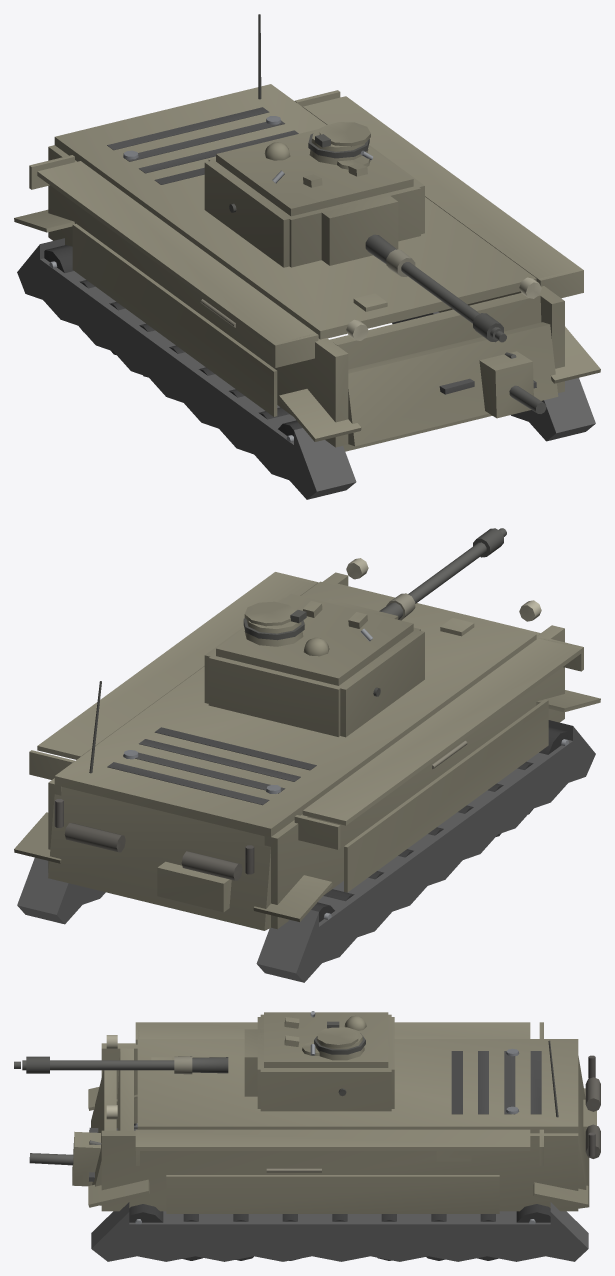
File: churchill1.glb
3 renders of one model, top to bottom at view 1: azimuth 30°, elevation 25°; view 2: azimuth 150°, elevation 25°; view 3: azimuth 270°, elevation 25°, orthographic. The views are drawn at different scales.
Parts seen in each view (by area): view 1: hullSide, hullTop, tracks, lowerPlate, turretRoof, glacis, turretSide, mantlet, turretFront, barrel; view 2: hullSide, hullTop, tracks, hullRear, turretRoof, turretRear, turretSide, barrel, glacis; view 3: hullSide, hullTop, tracks, turretRoof, turretSide, glacis, barrel, hullRear, lowerPlate, mantlet, wheel17, wheel16 (+2 smaller).
Boxes of the visible parts, x1,y1,x2,y2 form: hullSide: (29, 90, 583, 447); hullTop: (54, 84, 536, 339); tracks: (14, 209, 600, 499); lowerPlate: (348, 322, 558, 446); turretRoof: (216, 122, 413, 216); glacis: (329, 293, 546, 451); turretSide: (204, 145, 424, 267); mantlet: (321, 193, 398, 265); turretFront: (283, 185, 420, 267); barrel: (365, 234, 506, 342); hullSide: (29, 558, 583, 929); hullTop: (54, 581, 536, 836); tracks: (14, 690, 600, 982); hullRear: (48, 681, 270, 930); turretRoof: (216, 593, 413, 685); turretRear: (208, 653, 340, 736); turretSide: (204, 597, 424, 737); barrel: (379, 528, 506, 620); glacis: (335, 583, 540, 636); hullSide: (101, 1022, 578, 1213); hullTop: (137, 1039, 578, 1133); tracks: (88, 1087, 588, 1261); turretRoof: (264, 1011, 388, 1067); turretSide: (260, 1014, 391, 1111); glacis: (29, 1048, 171, 1186); barrel: (14, 1056, 228, 1074); hullRear: (548, 1040, 600, 1208); lowerPlate: (91, 1070, 116, 1205); mantlet: (244, 1029, 263, 1096); wheel17: (516, 1204, 550, 1224); wheel16: (129, 1204, 163, 1224).
Size of the model in its own units: 4.28 by 3.17 by 8.5.
